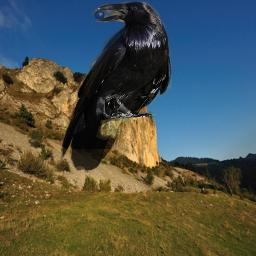Crow: (61, 1, 172, 173)
